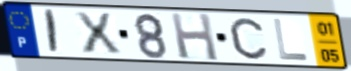8: (131, 10, 169, 60)
C: (227, 16, 269, 61)
H: (168, 12, 221, 63)
I: (45, 8, 60, 56)
L: (271, 17, 311, 62)
X: (71, 10, 124, 55)
